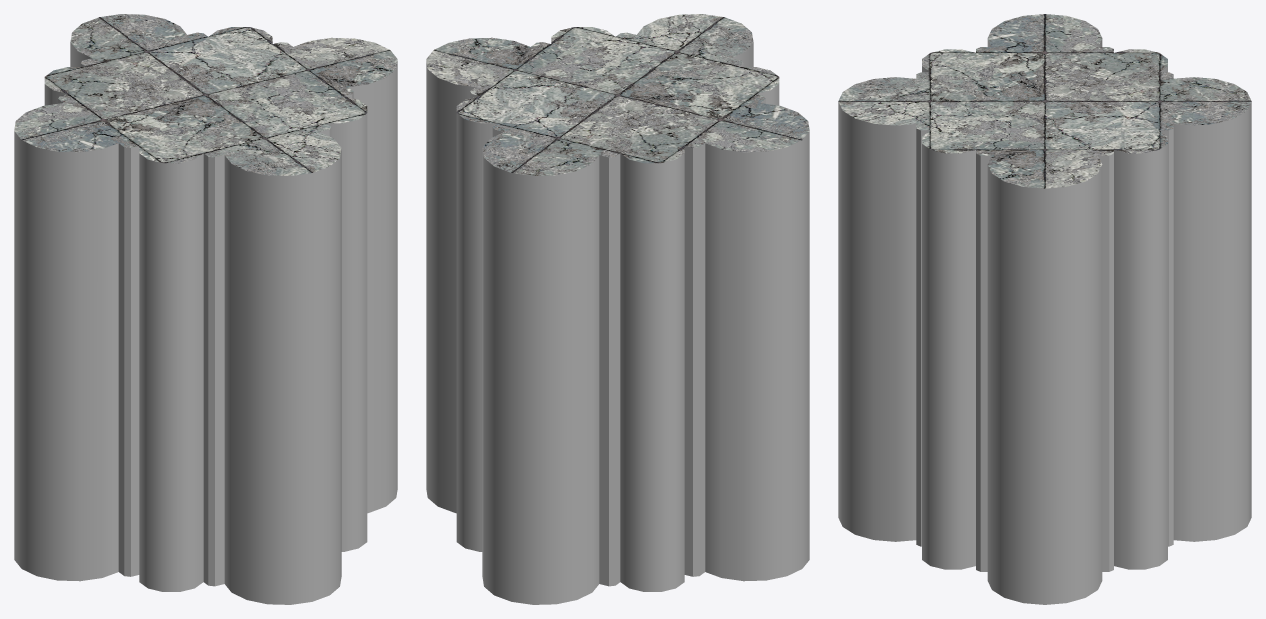
File: Säule_2m.gltf
3 views of the same model, side by side, from view 1: azimuth 30°, elevation 25°; view 2: azimuth 150°, elevation 25°; view 3: azimuth 270°, elevation 25° (orthographic). The views are drawn at different scales.
Visible parts, largest first — view 1: Säule_2m; view 2: Säule_2m; view 3: Säule_2m.
Part boxes in pixels (x1,y1,x2,y2): Säule_2m: (14,14,397,604); Säule_2m: (426,14,809,604); Säule_2m: (838,14,1251,604).
Size of the model in its own units: 1.8 by 2 by 1.8.
